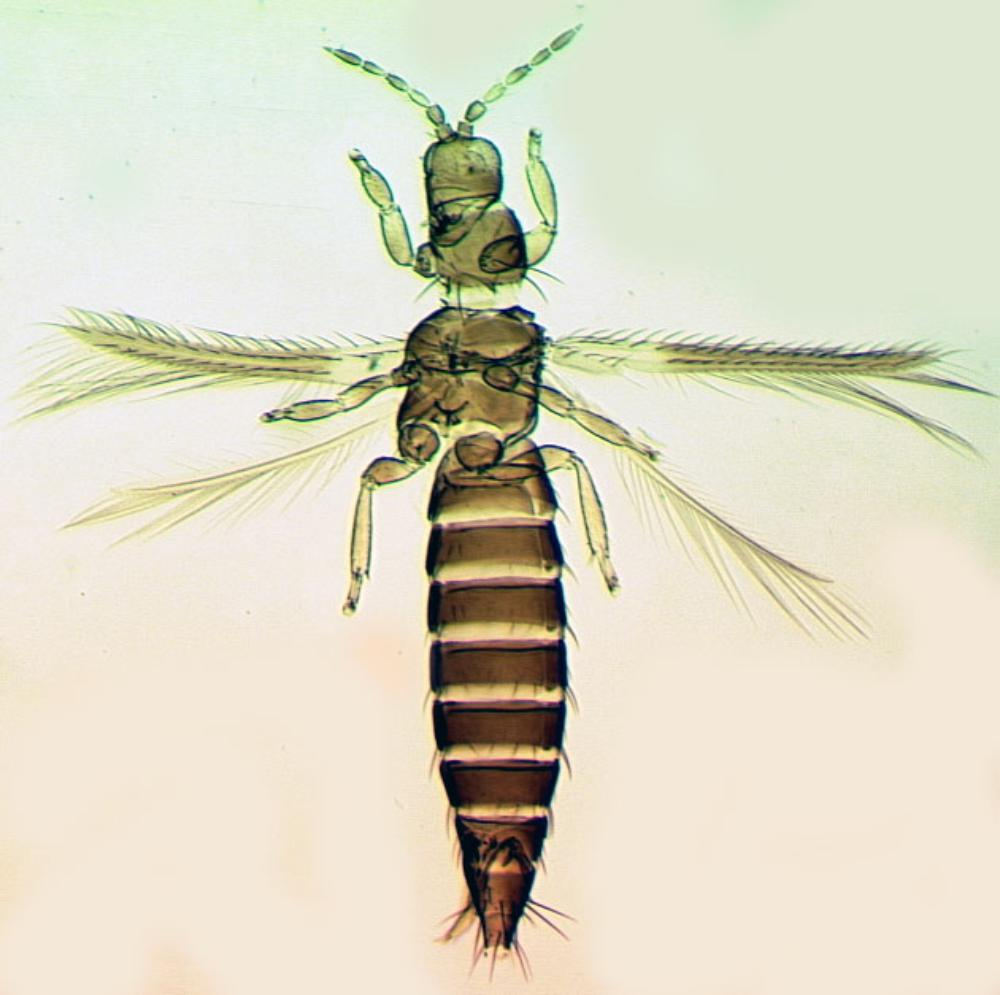Thripidae: (1, 26, 1000, 983)
